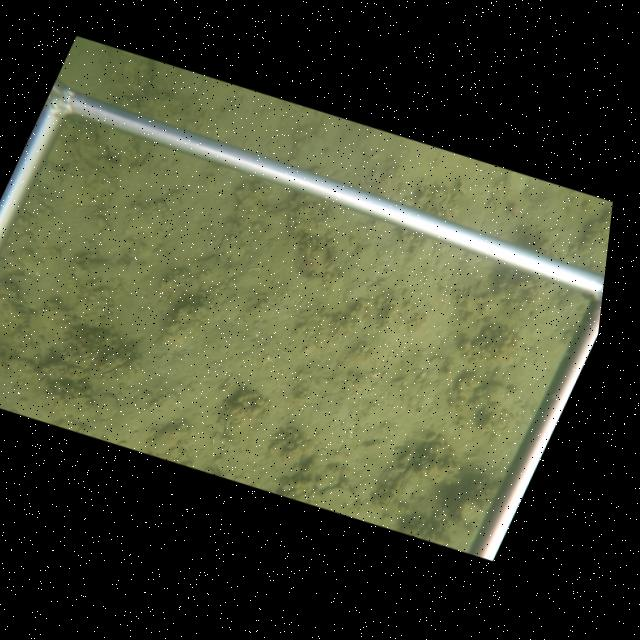Oyster-Indeterminate: (67, 391, 119, 426), (147, 422, 192, 457), (319, 485, 358, 506)
